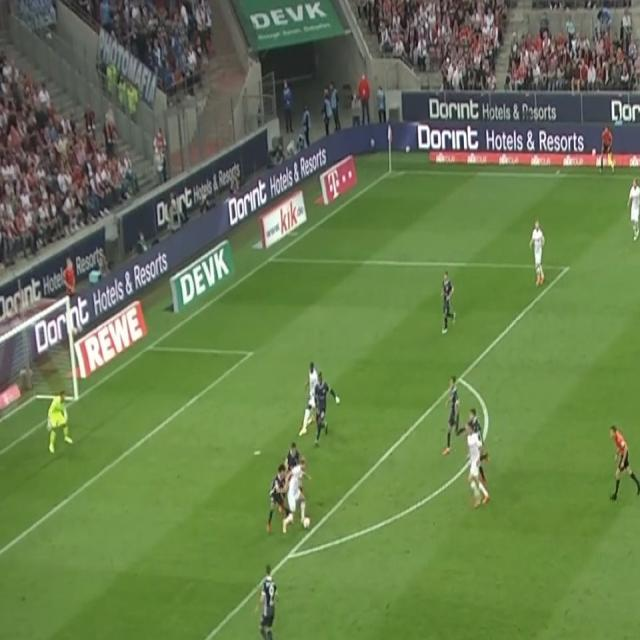ball: (302, 514, 311, 530)
